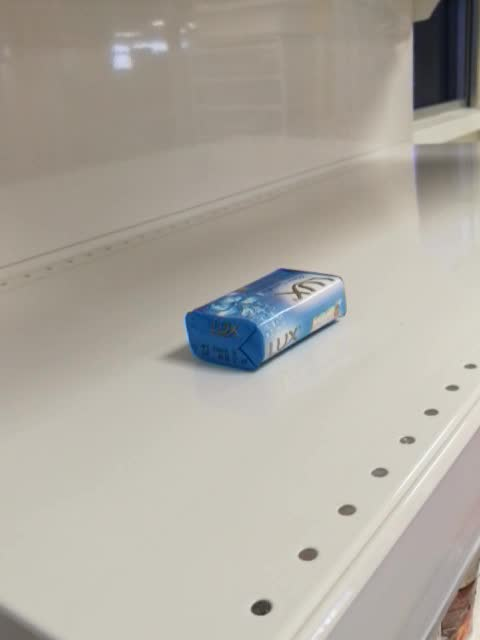soap: (182, 267, 348, 374)
